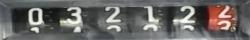digits: (178, 5, 196, 24), (104, 5, 121, 22), (28, 7, 44, 25), (65, 6, 81, 24), (143, 5, 155, 22), (217, 5, 232, 18)
